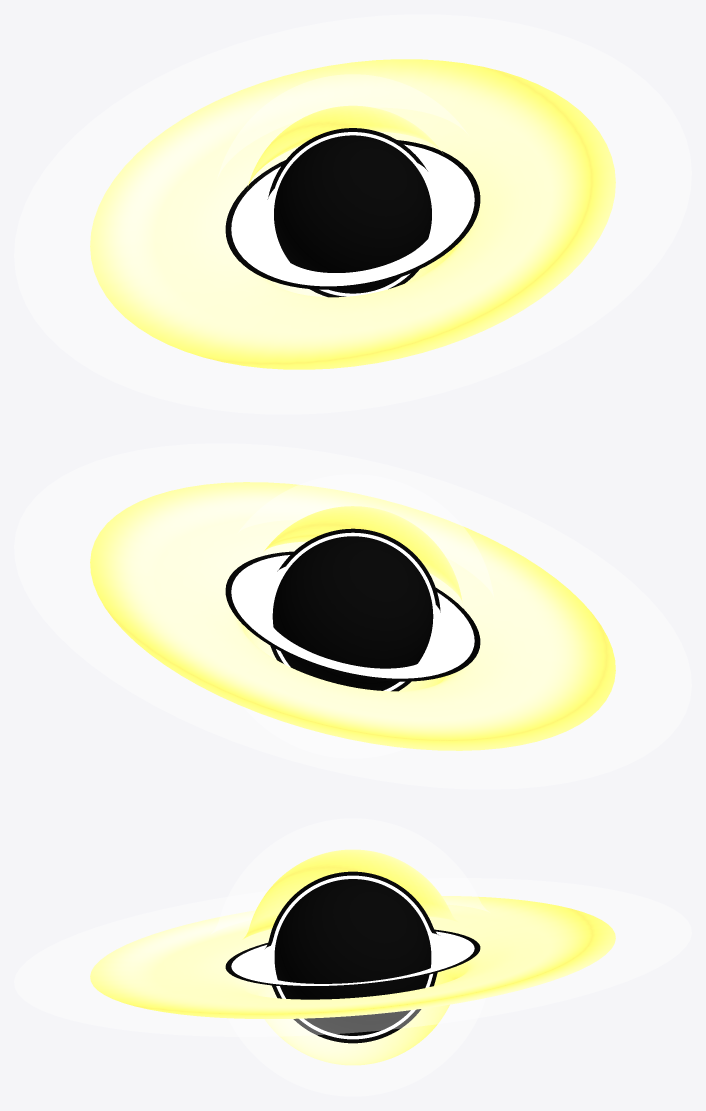
The model's file is black_hole.glb.
The picture shows the model from 3 angles, top to bottom: view 1: azimuth 30°, elevation 25°; view 2: azimuth 150°, elevation 25°; view 3: azimuth 270°, elevation 25°; orthographic projection. The views are drawn at different scales.
Visible parts, largest first — view 1: accretion disk_1, glowing_4, Blackhole_0, Einstein ring_2, Einstein ring.001_3; view 2: accretion disk_1, glowing_4, Blackhole_0, Einstein ring_2, Einstein ring.001_3; view 3: glowing_4, accretion disk_1, Blackhole_0, Einstein ring_2, Einstein ring.001_3.
Boxes of the visible parts, <box> form: accretion disk_1: <box>90,59,615,369</box>; glowing_4: <box>14,14,691,414</box>; Blackhole_0: <box>274,135,431,293</box>; Einstein ring_2: <box>231,132,474,296</box>; Einstein ring.001_3: <box>225,128,480,297</box>; accretion disk_1: <box>90,482,615,750</box>; glowing_4: <box>14,443,691,789</box>; Blackhole_0: <box>272,536,433,690</box>; Einstein ring_2: <box>231,532,474,691</box>; Einstein ring.001_3: <box>225,528,480,691</box>; glowing_4: <box>14,818,691,1096</box>; accretion disk_1: <box>90,849,615,1065</box>; Blackhole_0: <box>274,879,431,1035</box>; Einstein ring_2: <box>231,875,474,1039</box>; Einstein ring.001_3: <box>225,871,480,1043</box>.
Bounding box in the file's own units: 6.33 × 2.65 × 6.46.
